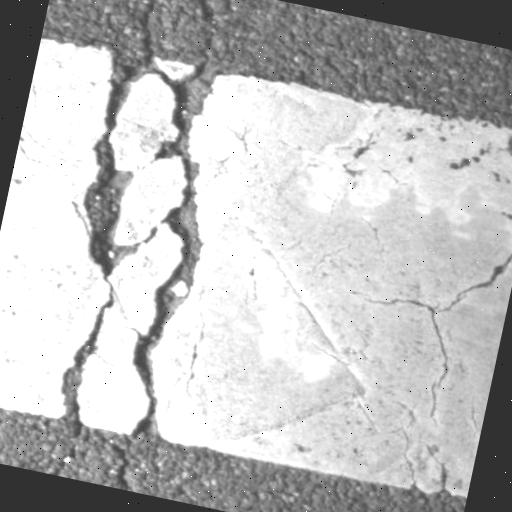spalling: (125, 64, 223, 429), (54, 57, 153, 416), (373, 238, 512, 401)
